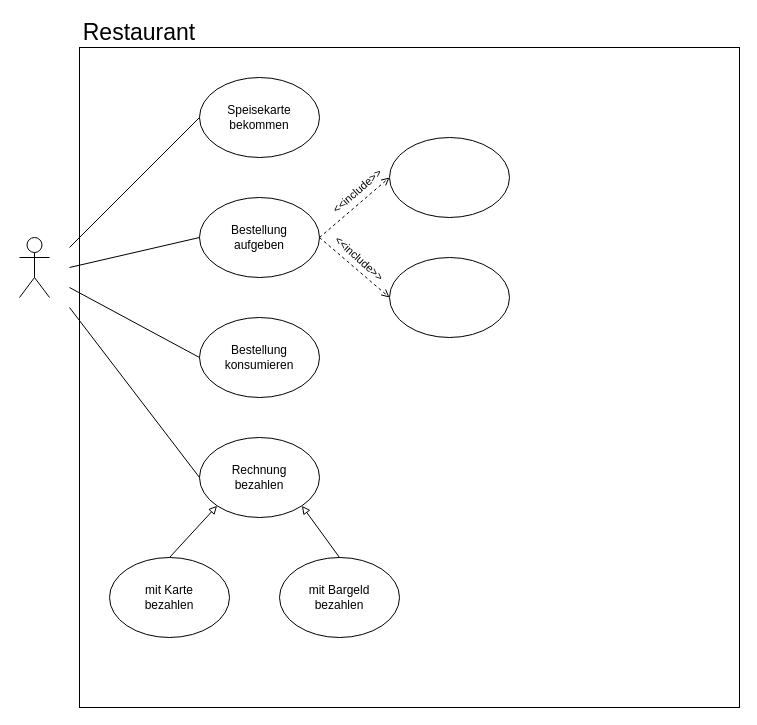
This 757x725 diagram has some shape labels left out. The box of each missing label's shape, as (x1, y1, x2, y2) in pixels:
Essen bestellen: (388, 136, 510, 218)
Getränke bestellen: (388, 256, 510, 338)
Kunde: (18, 236, 50, 298)
